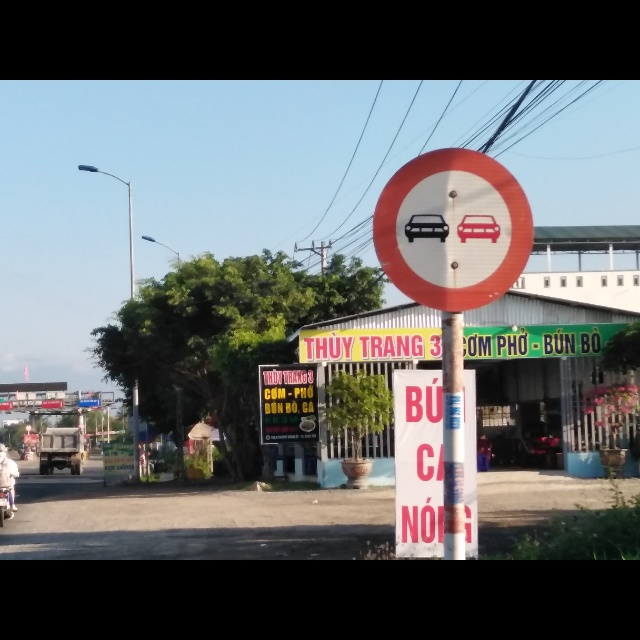Cấm vượt: (369, 147, 536, 311)
